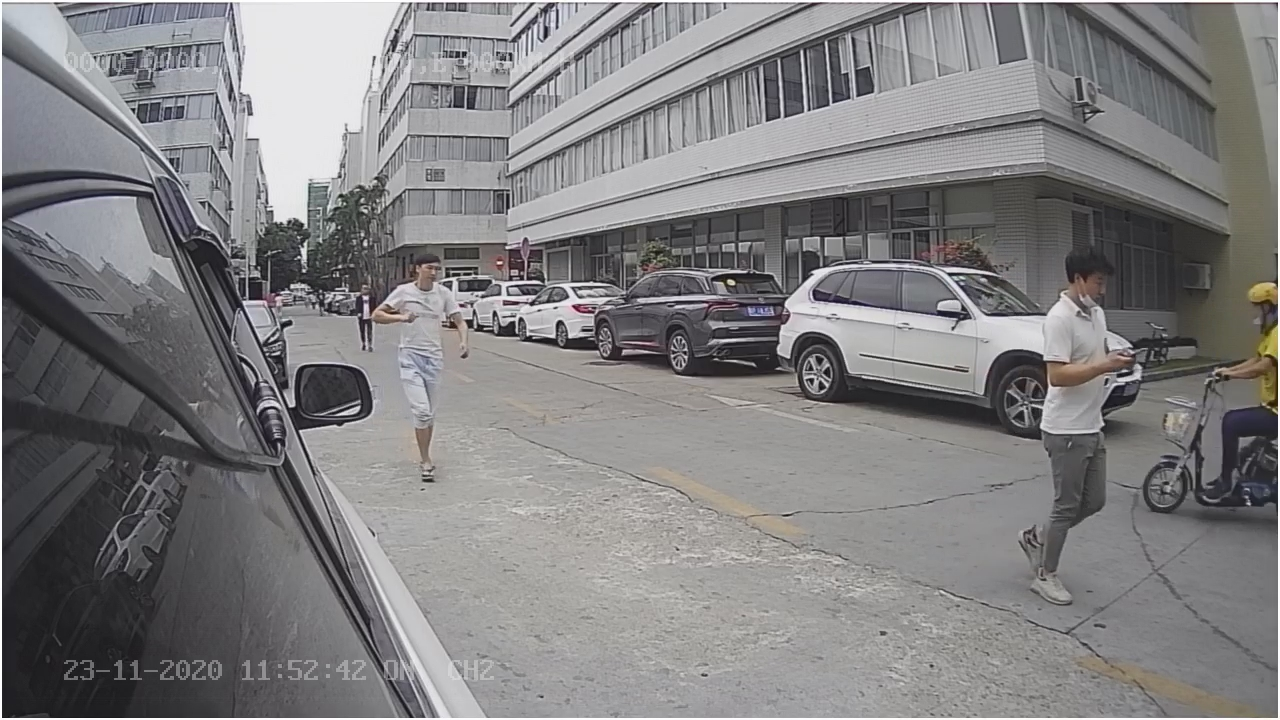person: (1021, 239, 1117, 593), (383, 242, 466, 480)
